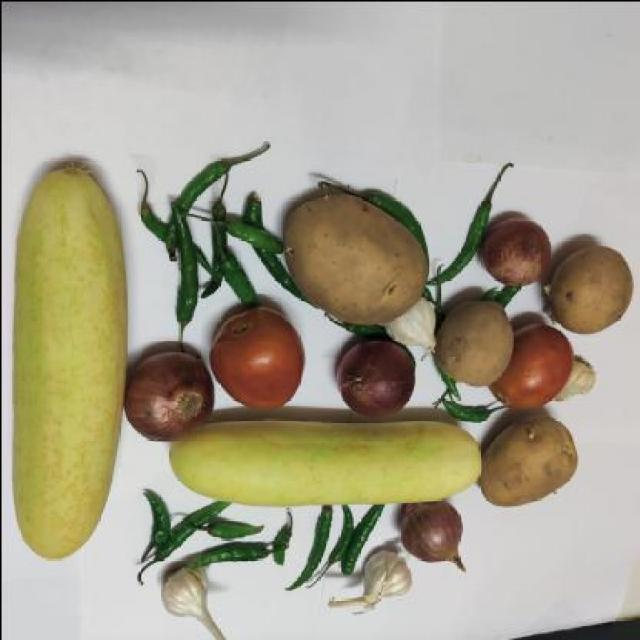Garlic: (318, 549, 411, 617), (147, 564, 223, 640)
Green Chili: (134, 156, 296, 330), (132, 492, 246, 578)
Onion: (115, 346, 214, 440), (476, 212, 562, 294), (331, 334, 417, 414), (397, 501, 468, 574)
Potato: (274, 185, 437, 326), (471, 410, 591, 516), (541, 243, 640, 330), (423, 296, 517, 386)
Tomato: (197, 302, 303, 411), (495, 330, 568, 412)
cucumber: (0, 162, 129, 550), (168, 408, 490, 510)
